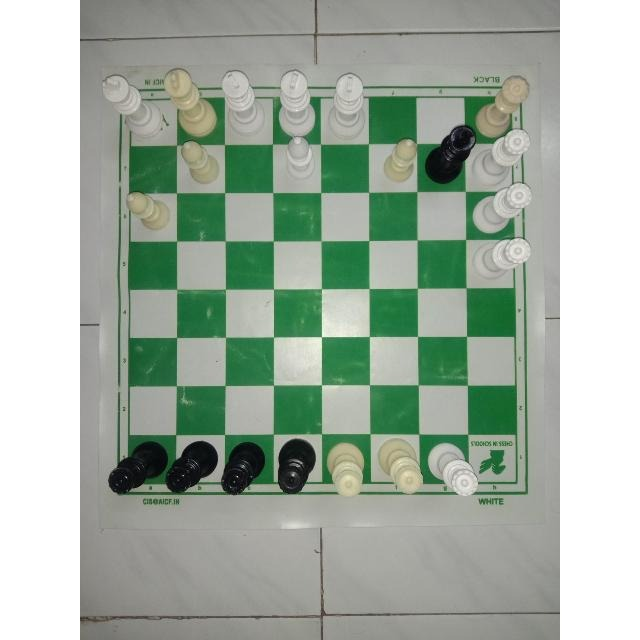black-king: (424, 122, 475, 189)
black-queen: (104, 436, 161, 498), (220, 438, 270, 501), (275, 434, 323, 496), (167, 440, 216, 497)
white-bishop: (123, 188, 173, 234), (179, 138, 223, 185), (379, 136, 419, 186), (278, 135, 319, 182)
white-king: (99, 70, 167, 141), (160, 67, 221, 139), (218, 69, 270, 140), (327, 71, 371, 144), (276, 68, 326, 132)
white-queen: (424, 436, 482, 499), (470, 181, 534, 238), (373, 437, 425, 501), (476, 129, 541, 176), (469, 235, 531, 284), (479, 73, 533, 129), (324, 437, 368, 501)
